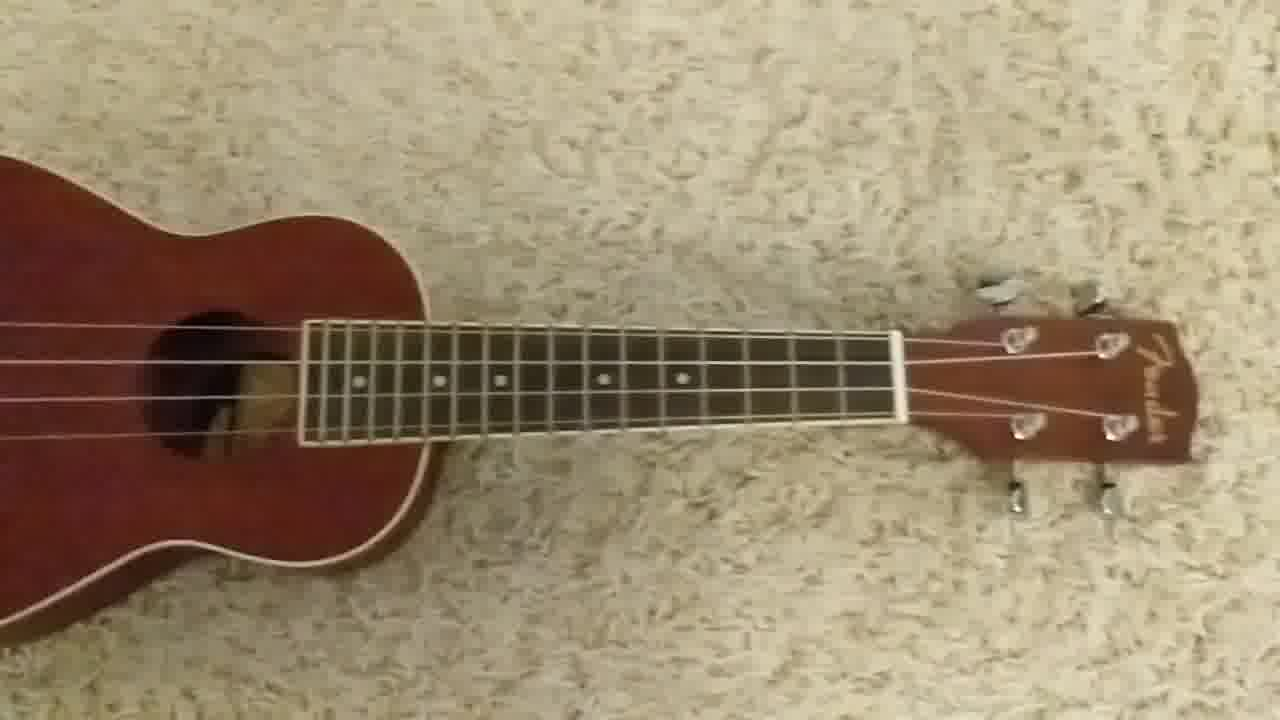Body: (1, 152, 445, 649)
Headstock: (907, 276, 1201, 525)
